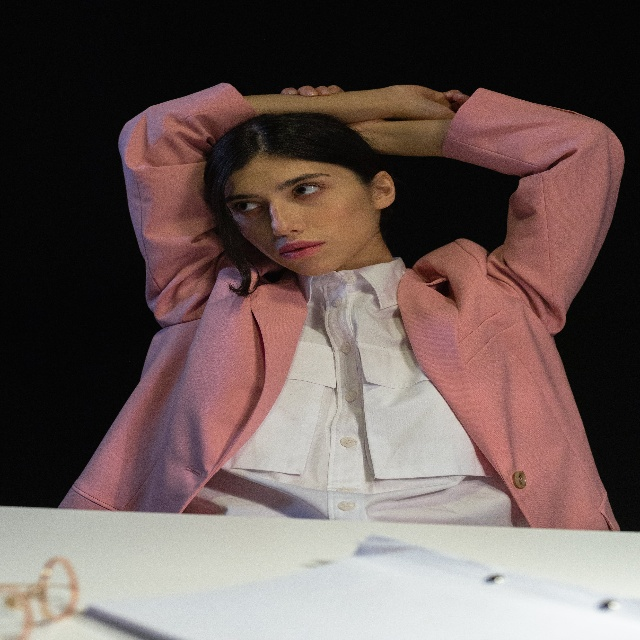Gafas: (0, 555, 79, 640)
Sin_guantes: (399, 83, 471, 120), (280, 84, 342, 97)
